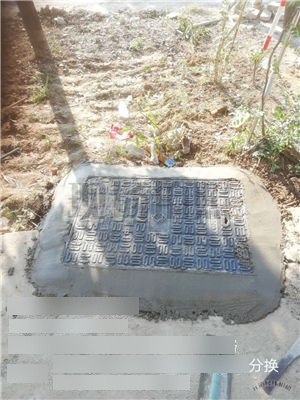good: (59, 172, 257, 272)
